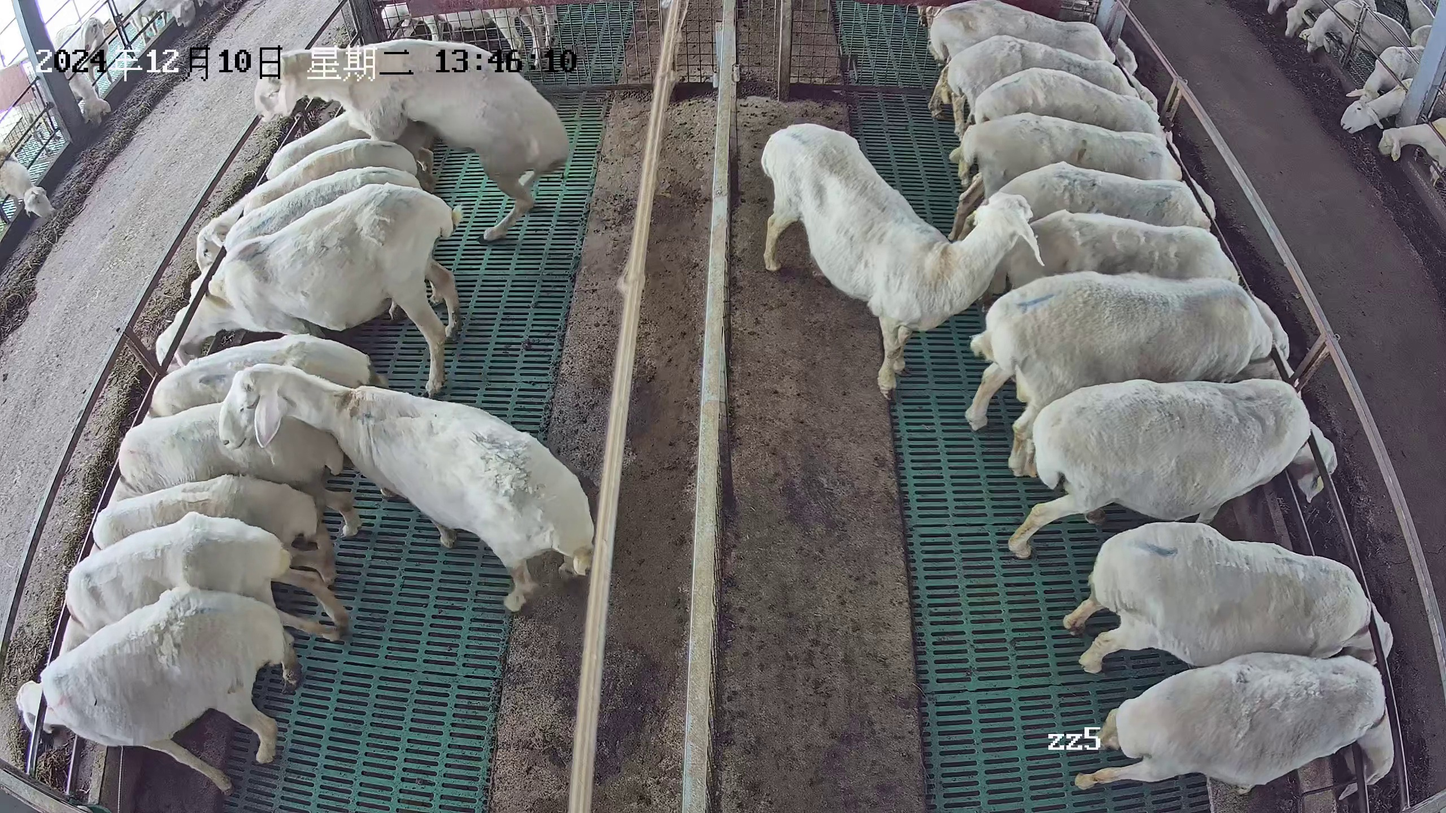Smounting: (252, 37, 572, 242)
mounted: (262, 107, 437, 190)
